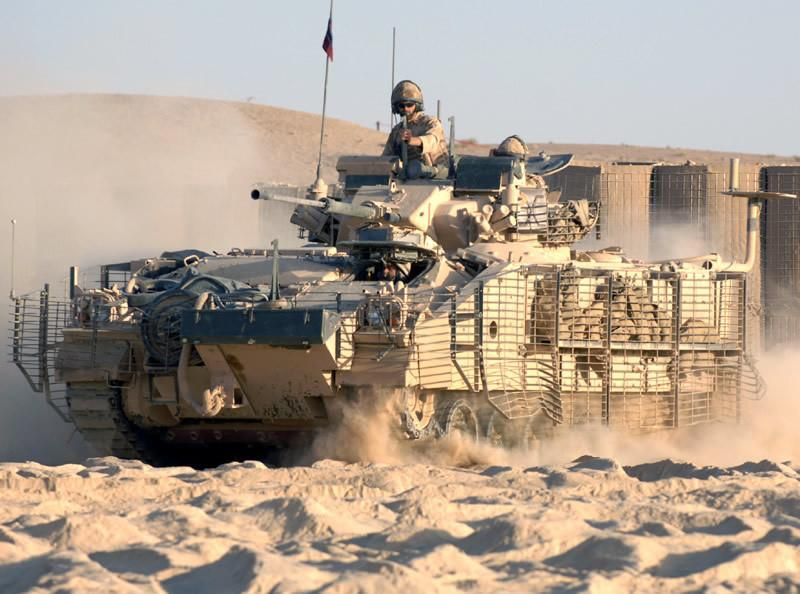MIL_IFV: (13, 82, 757, 468)
